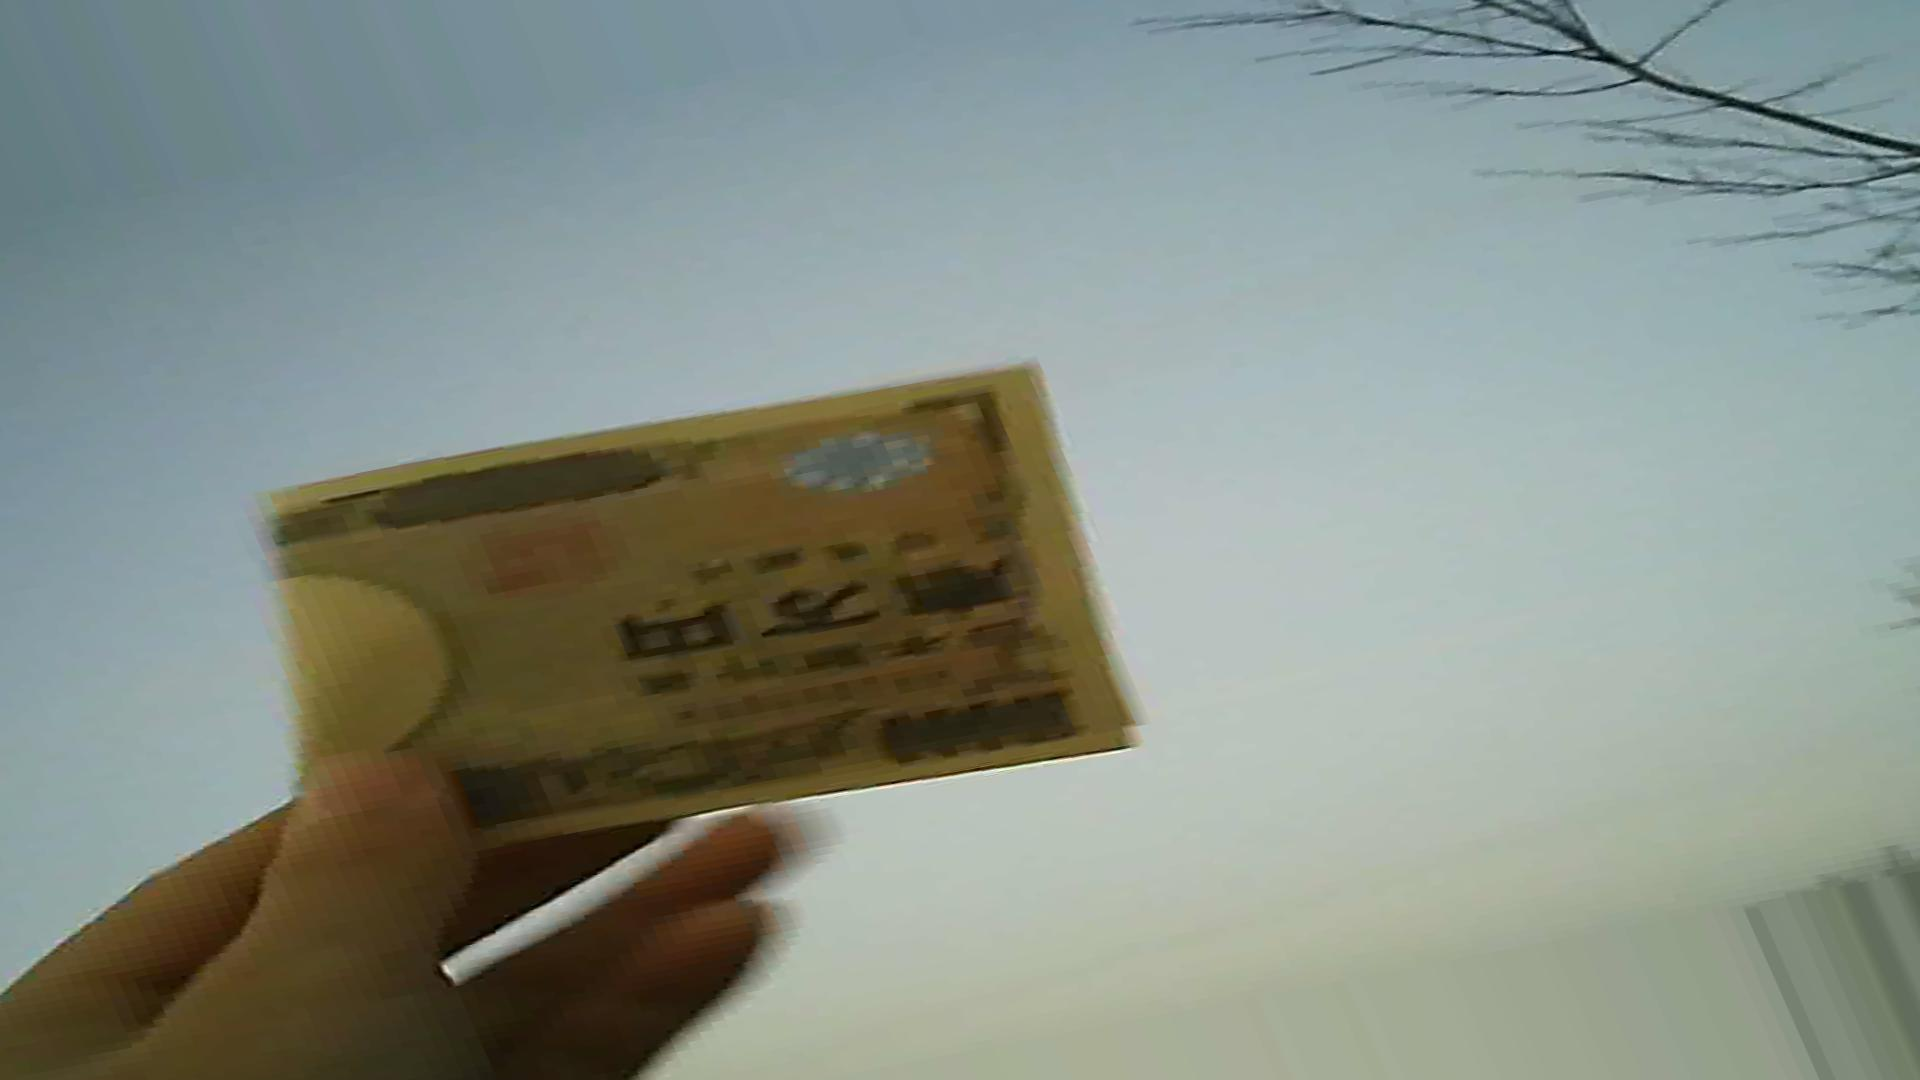10,000 Yen: (225, 378, 1200, 844)
